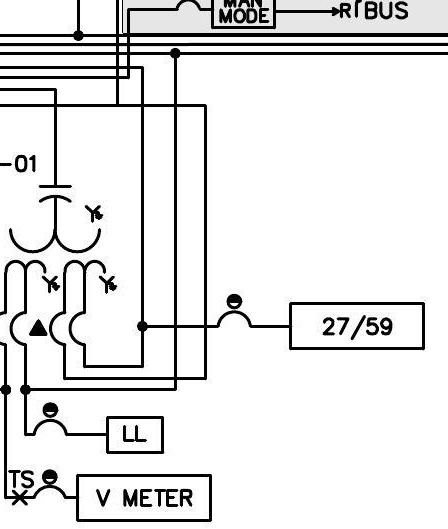LL: (105, 415, 165, 455)
v_m_digital: (75, 473, 213, 523)
